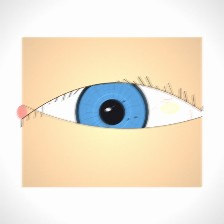pinguecula_lesion: (151, 93, 189, 123)
